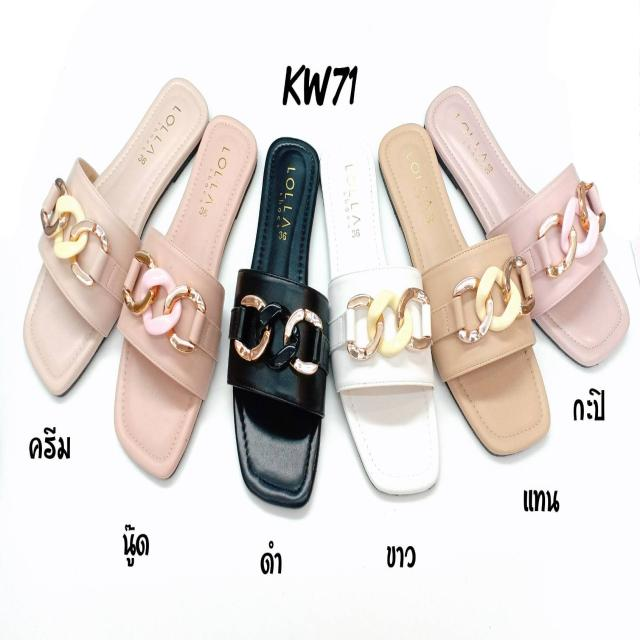black: (233, 138, 320, 506)
cream: (23, 77, 208, 390)
kapi: (425, 84, 629, 366)
nood: (112, 111, 258, 477)
tan: (382, 119, 549, 459)
white: (318, 136, 441, 498)
